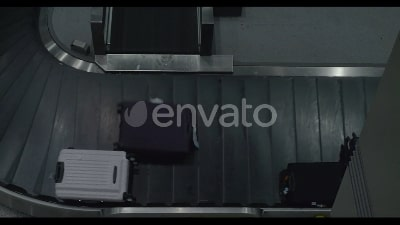baggage: (44, 146, 139, 204), (114, 102, 204, 161), (273, 157, 358, 212)
